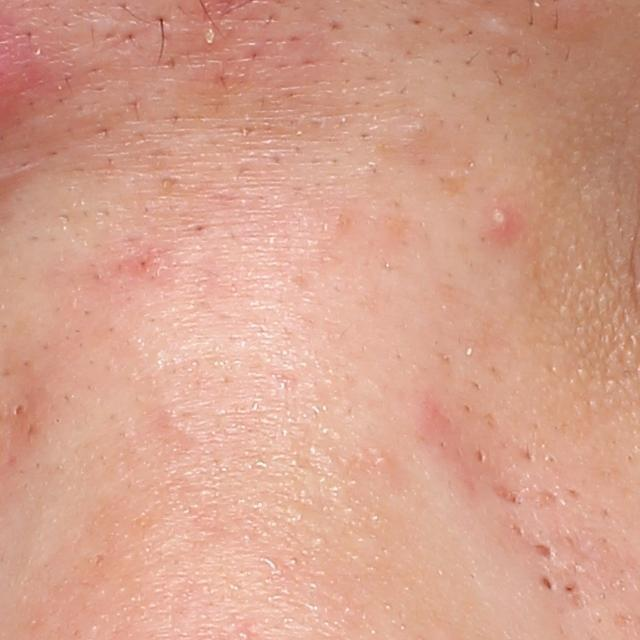atrophic_scar: (487, 485, 530, 509), (530, 542, 557, 564)
comedo: (404, 119, 427, 140), (537, 573, 557, 596), (12, 402, 27, 419), (475, 448, 486, 463)
hypertrophic_scar: (464, 13, 531, 47)
pustule: (474, 199, 517, 242)
